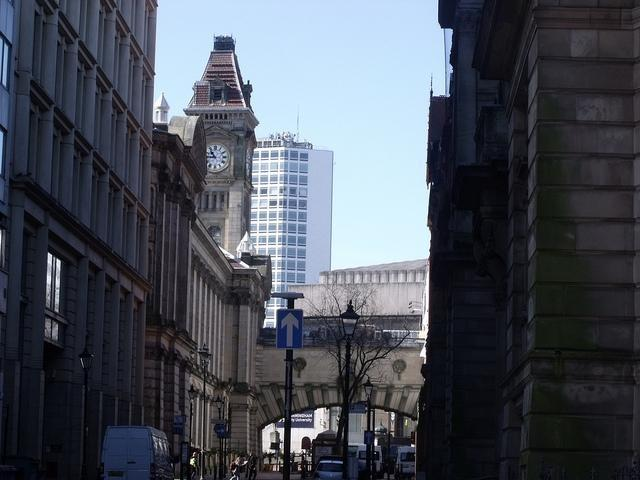car: (386, 445, 416, 478), (354, 446, 384, 479), (314, 456, 344, 480)
truck: (101, 424, 176, 480)
